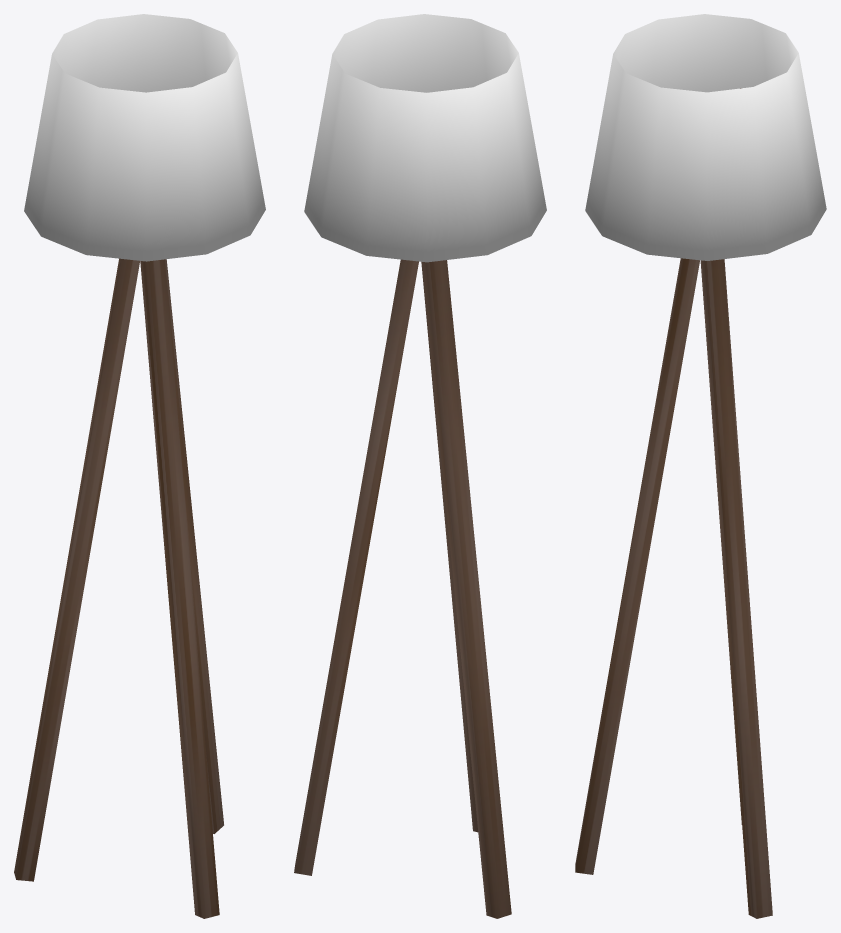
File: lamp_4.glb
3 views of the same model, side by side, from view 1: azimuth 30°, elevation 25°; view 2: azimuth 150°, elevation 25°; view 3: azimuth 270°, elevation 25° (orthographic).
Parts seen in each view (by area): view 1: lamp4; view 2: lamp4; view 3: lamp4.
Boxes of the visible parts, bbox=[...] form: lamp4: bbox=[14, 14, 265, 918]; lamp4: bbox=[294, 14, 546, 918]; lamp4: bbox=[575, 14, 826, 918].
Size of what is drawn, in the model's own units: 0.3706 by 1.37 by 0.3812.
1 material, 1 textured.
